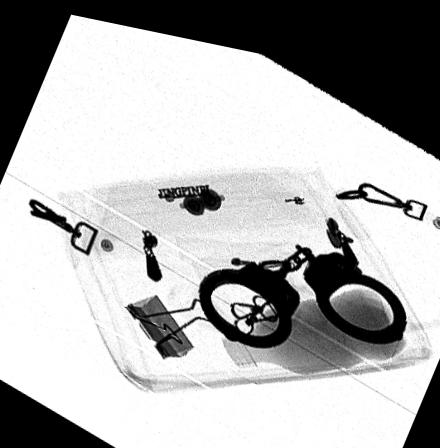HandCuffs: (198, 224, 408, 336)
